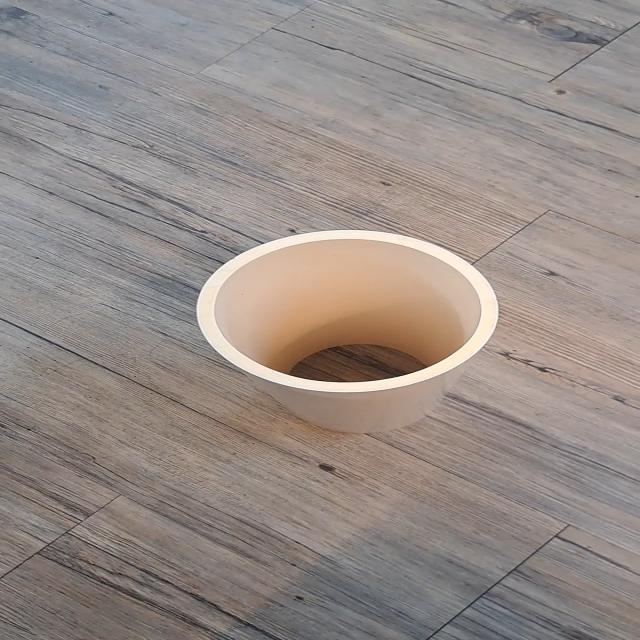CORAL: (160, 194, 520, 462)
